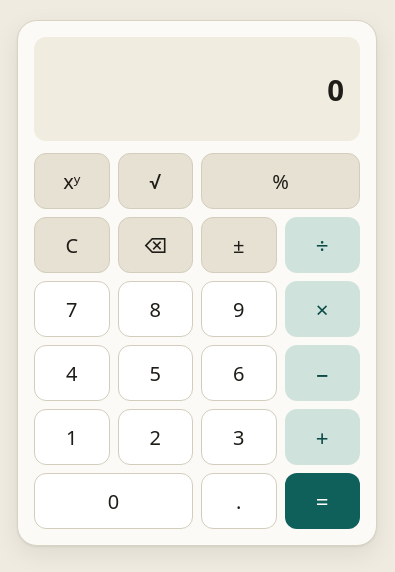
Scenario: Calculator: errors › shows the mapped message in an alert, and the next digit recovers
The image size is (395, 572).
Step 1. Click the button "1" → (72, 437), box left=34, top=409, right=110, bottom=465
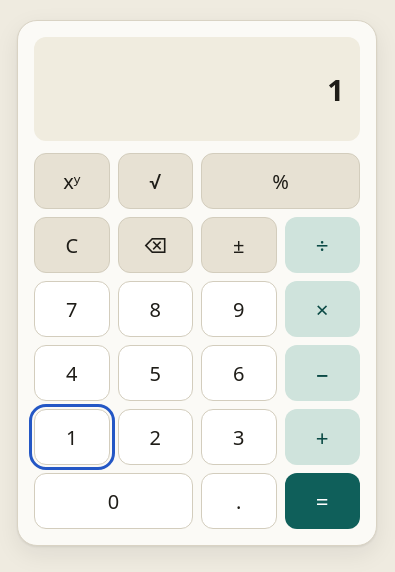
Step 2. Click the button named "divide" → (322, 245), box left=284, top=217, right=360, bottom=273
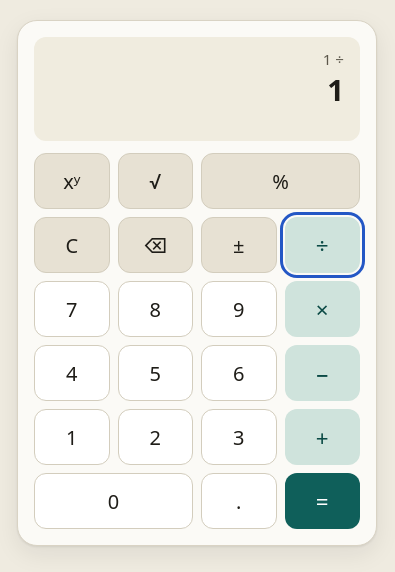
Step 3. Click the button "0" → (114, 501), box left=34, top=473, right=193, bottom=529
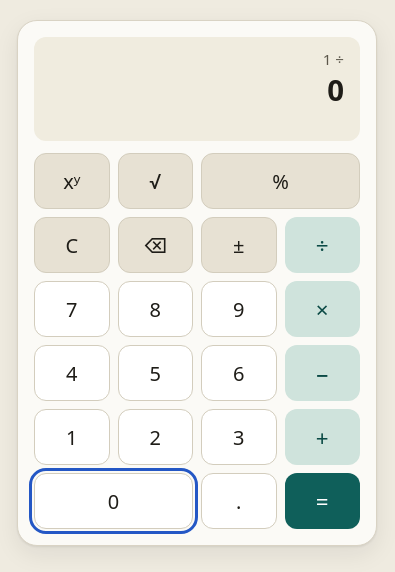
Step 4. Click the button named "equals" → (322, 501), box left=284, top=473, right=360, bottom=529
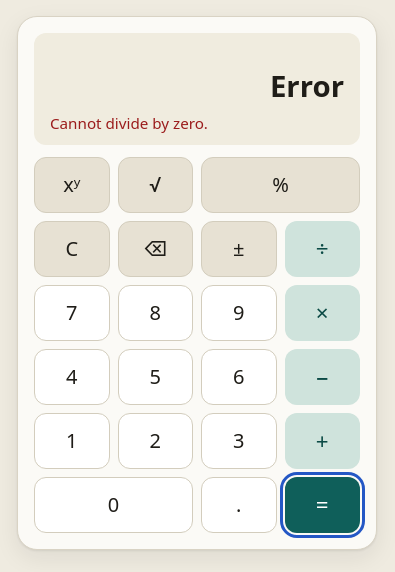
expect the message "Cannot divide by zero." is shown: met, box left=50, top=113, right=208, bottom=133
expect the message "Error" is shown: met, box left=270, top=66, right=344, bottom=106
Step 5. Click the button "7" → (72, 313), box left=34, top=285, right=110, bottom=341
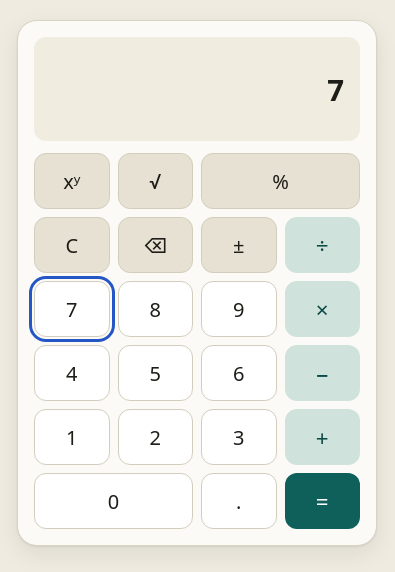
expect the message "Cannot divide by zero." is gone: met
expect the message reads "7": met, box left=327, top=70, right=344, bottom=110
